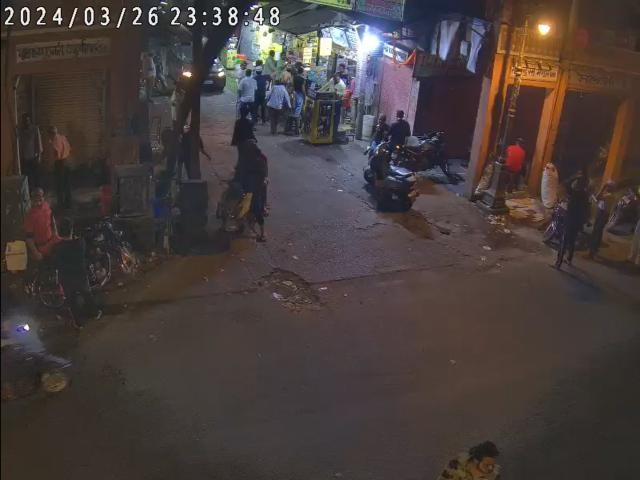person: (264, 78, 290, 134), (236, 70, 262, 123)
scooty: (364, 111, 420, 210), (222, 138, 270, 240)
